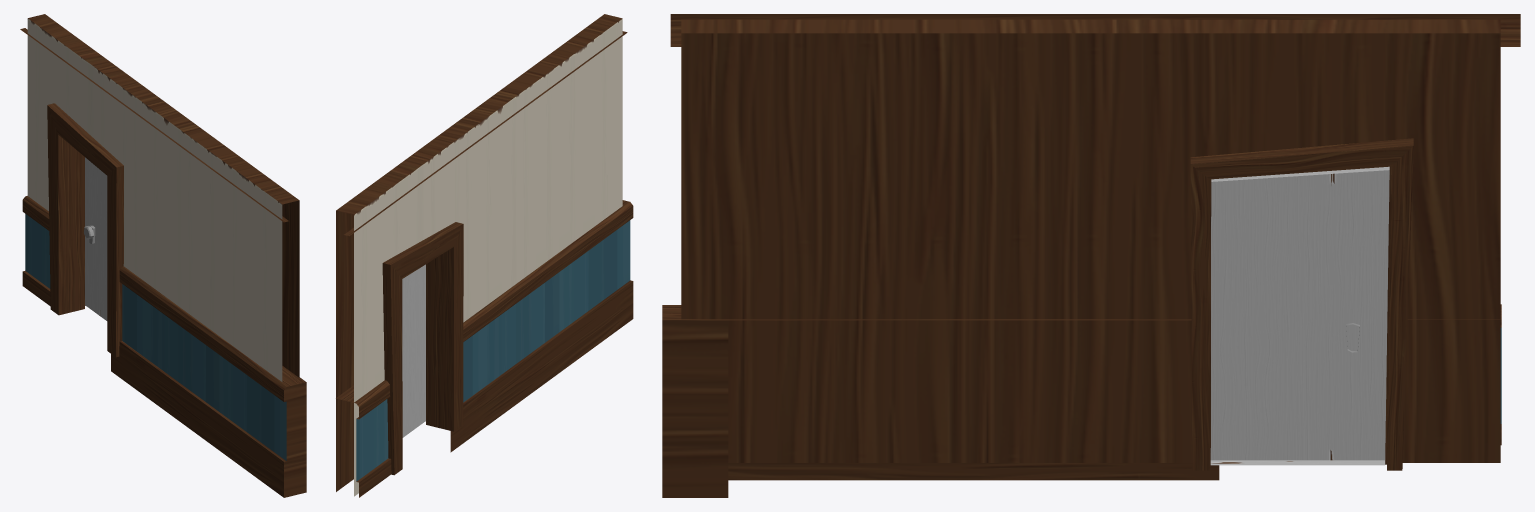
Rendered from Wall_2.fbx.
The picture shows the model from 3 angles, left to right: view 1: azimuth 30°, elevation 25°; view 2: azimuth 150°, elevation 25°; view 3: azimuth 270°, elevation 25°; orthographic projection. The views are drawn at different scales.
Parts seen in each view (by area): view 1: Midnight_Antics_House_Build_V1.003; view 2: Midnight_Antics_House_Build_V1.003; view 3: Midnight_Antics_House_Build_V1.003.
Part boxes in pixels (x1,y1,x2,y2): Midnight_Antics_House_Build_V1.003: (20,14,306,497); Midnight_Antics_House_Build_V1.003: (336,14,633,497); Midnight_Antics_House_Build_V1.003: (662,14,1520,497).
Bounding box in the file's own units: 3984 × 32404 × 54317.
